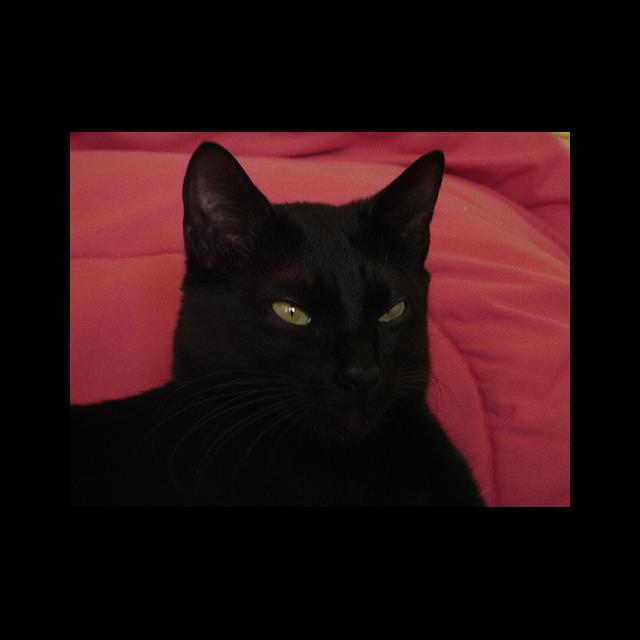animals: (190, 140, 440, 392)
